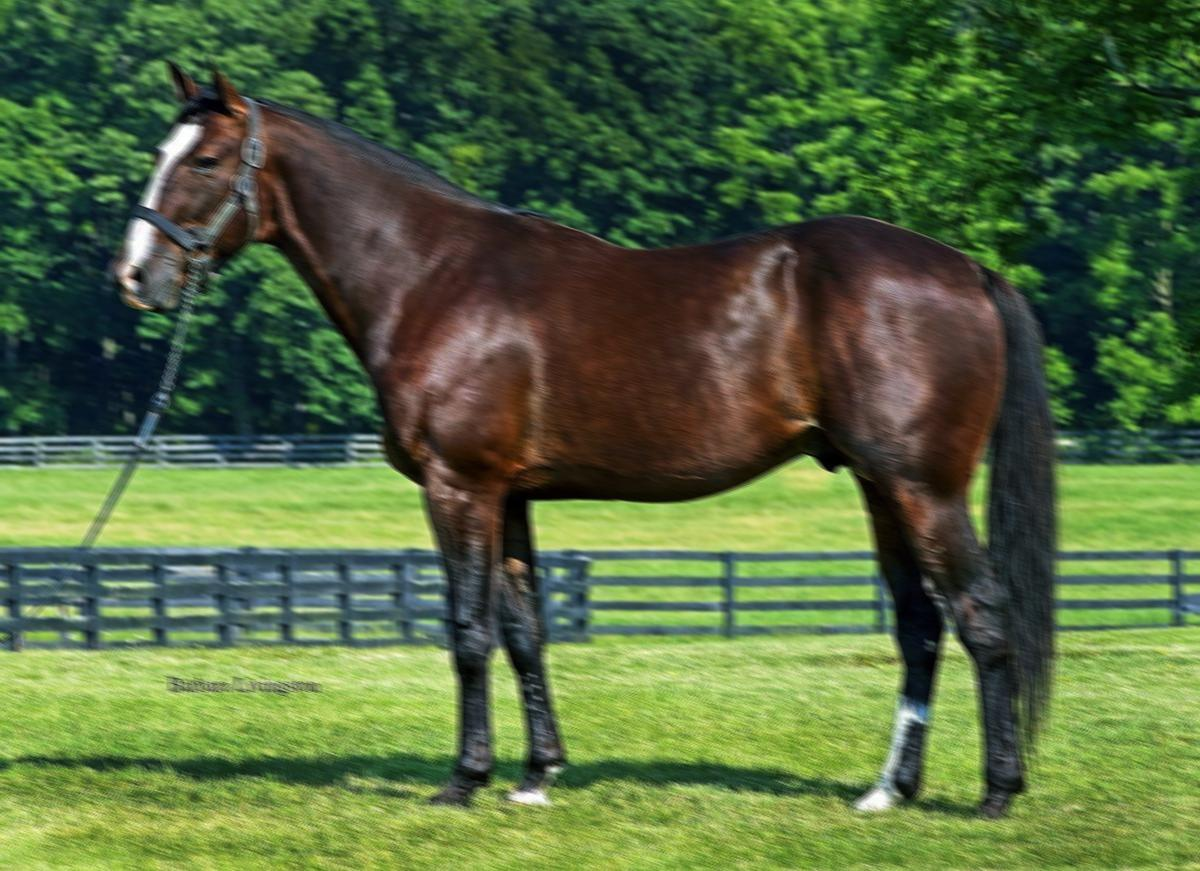horse: (92, 47, 1070, 826)
